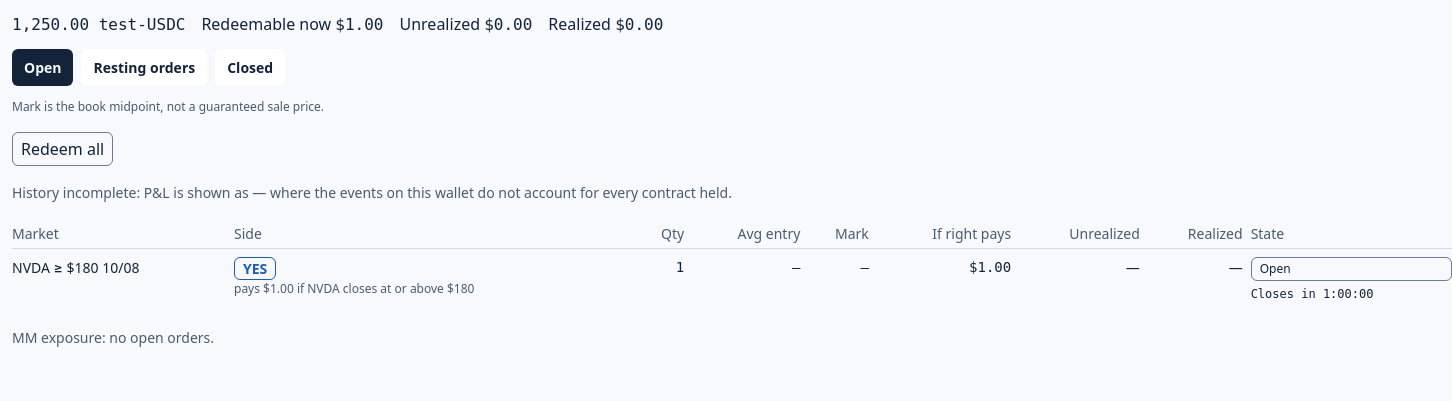
Scenario: Portfolio page › a failed transaction says so in words and nothing was charged
Click the button "Redeem all" at (63, 149), box [12,132,113,166]
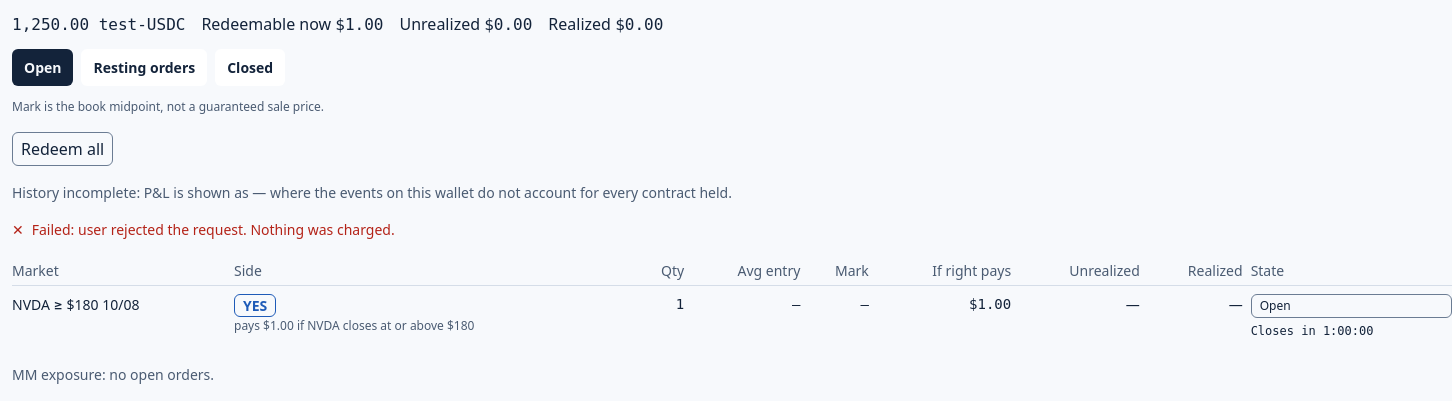
Expected: the message shows "Failed: user rejected the request. Nothing was charged.", [32,220,395,239]
